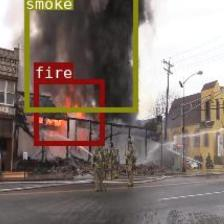fire: (33, 78, 104, 144)
smoke: (24, 0, 136, 111)
